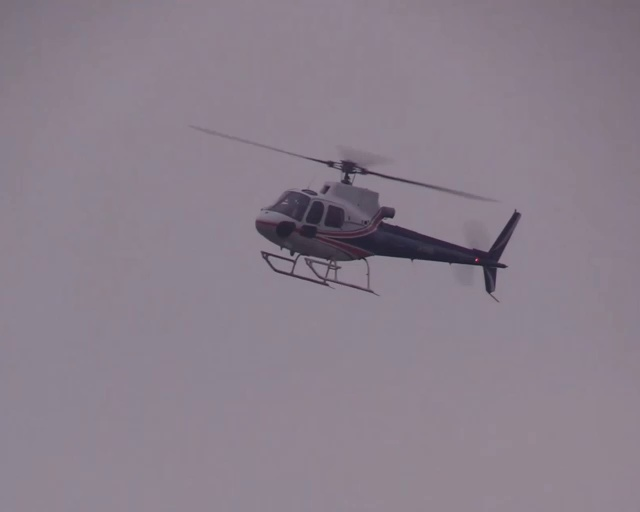HELICOPTER: (184, 121, 523, 302)
